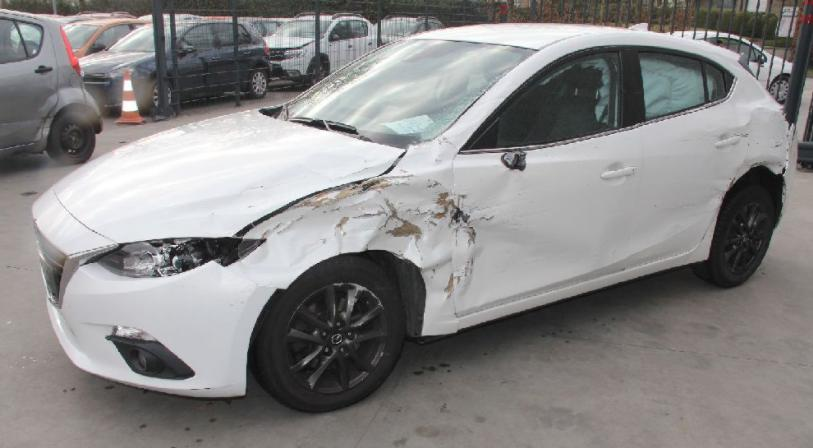Back-bumper: (773, 123, 799, 233)
Back-door: (610, 44, 750, 274)
Back-wheel: (690, 181, 775, 288)
Back-window: (639, 51, 727, 121)
Fender: (225, 135, 459, 321)
Front-bumper: (32, 186, 278, 398)
Front-door: (451, 45, 645, 318)
Front-wheel: (248, 254, 408, 413)
Front-window: (470, 52, 620, 148)
Grille: (34, 222, 66, 305)
Headlight: (88, 238, 267, 278)
Hood: (49, 107, 407, 244)
Quarter-panel: (729, 98, 788, 189)
Rocker-panel: (421, 198, 723, 336)
Roof: (402, 23, 658, 51)
Windshield: (261, 38, 539, 149)
